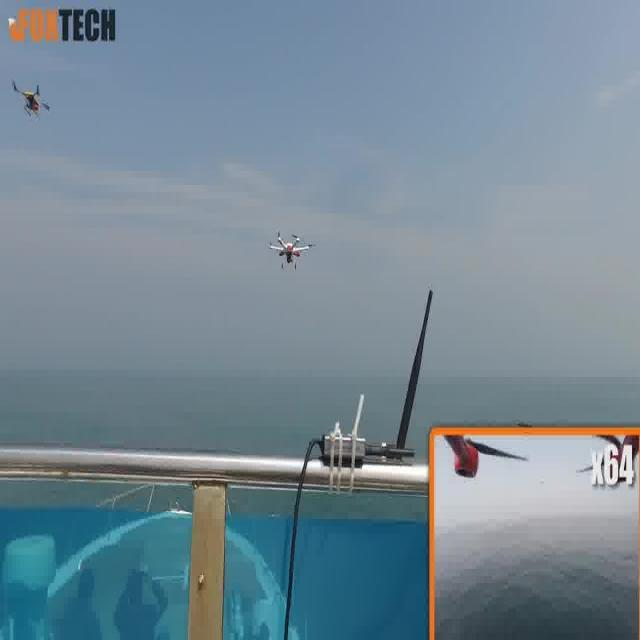drone: (268, 217, 317, 272)
